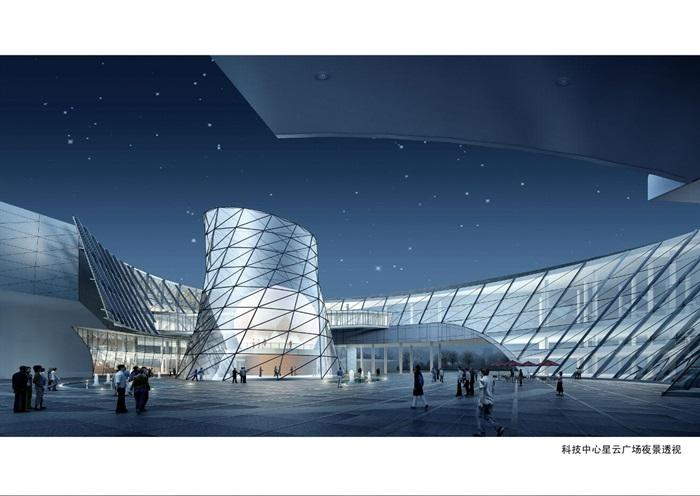buildings: (61, 211, 367, 385)
sky_cloud: (6, 78, 676, 257)
